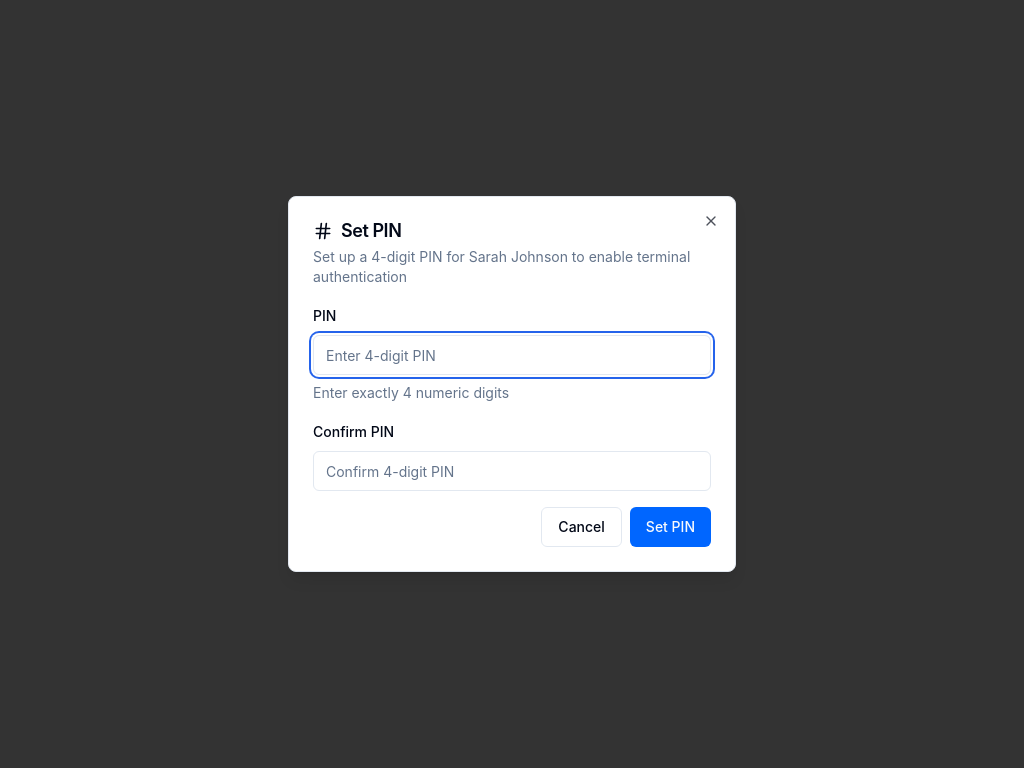
SetEmployeePINModal Component › PIN Input Validation › UPIN-COMP-012: should strip non-numeric characters from confirm PIN input
Note: User enters non-numeric characters in confirm field
Type "xyz9876!" into the password field with test id "confirm-pin-input" at (512, 471), box [313,451,711,491]
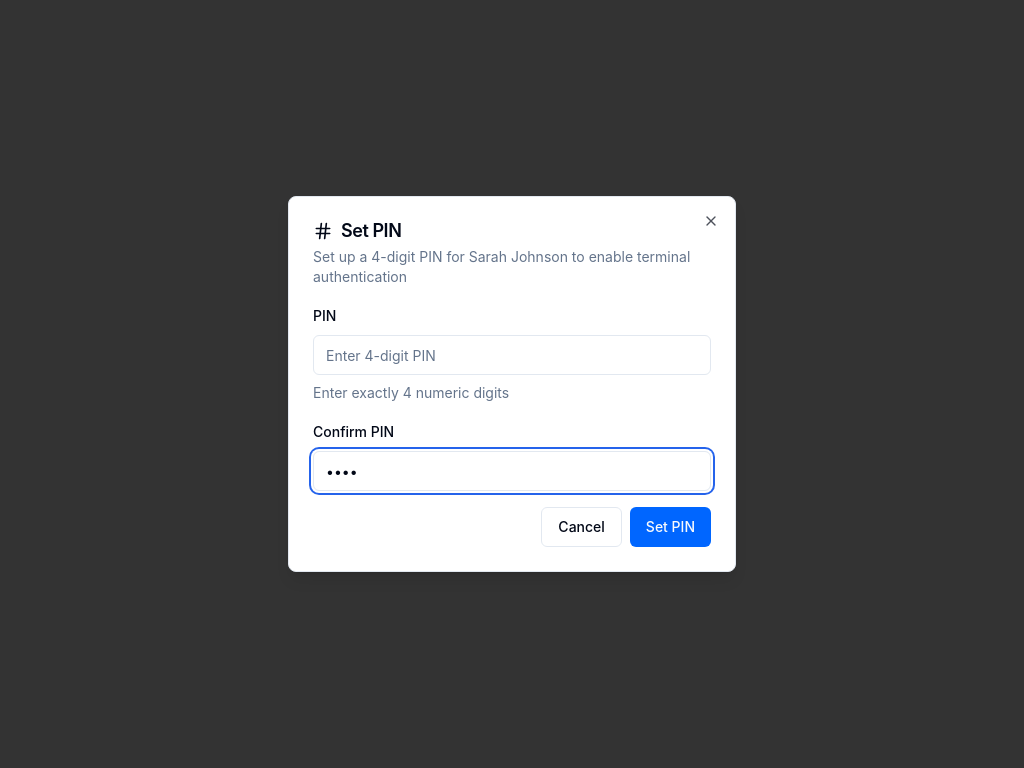
Check: the password field with test id "confirm-pin-input" holds "9876", box [313,451,711,491]
